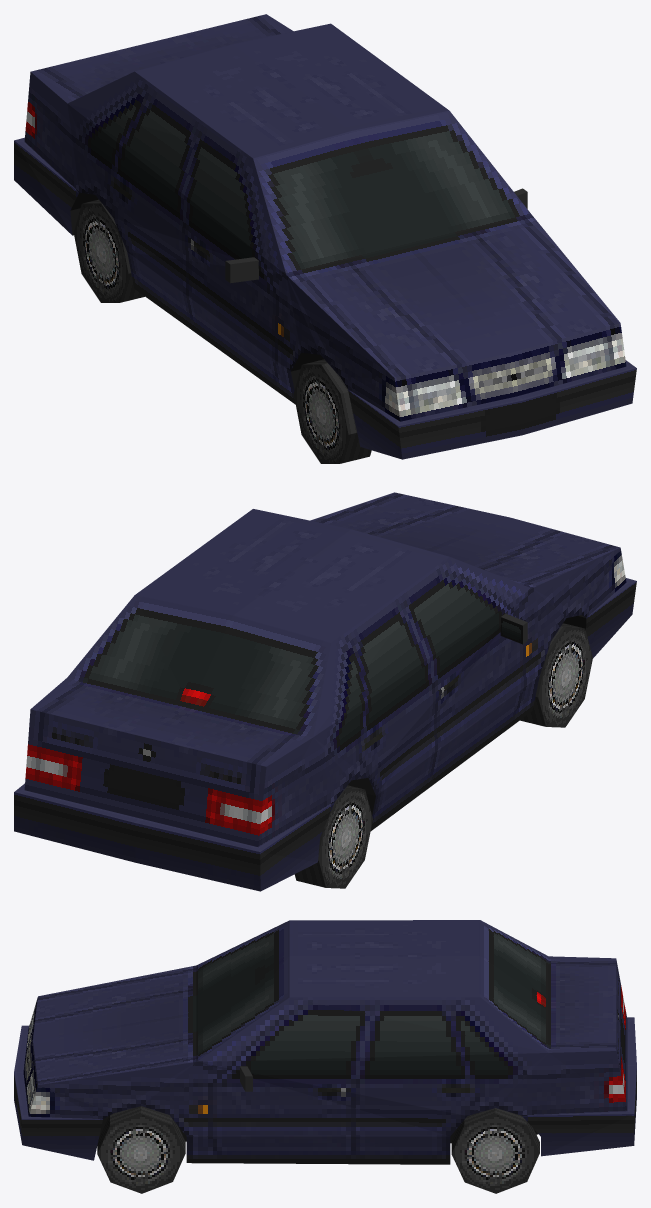
Rendered from Car2.glb.
3 renders of one model, top to bottom at view 1: azimuth 30°, elevation 25°; view 2: azimuth 150°, elevation 25°; view 3: azimuth 270°, elevation 25°, orthographic. The views are drawn at different scales.
Visible parts, largest first — view 1: Car2, Wheel.002, Wheel.004; view 2: Car2, Wheel.002, Wheel.004; view 3: Car2, Wheel.001, Wheel.003.
Part boxes in pixels (x1,y1,x2,y2): Car2: (14, 14, 636, 459); Wheel.002: (293, 359, 371, 463); Wheel.004: (73, 199, 144, 302); Car2: (14, 492, 636, 891); Wheel.002: (520, 623, 592, 727); Wheel.004: (294, 785, 372, 888); Car2: (14, 920, 636, 1164); Wheel.001: (97, 1106, 185, 1193); Wheel.003: (451, 1108, 539, 1193).
Bounding box in the file's own units: 2.9 × 2.2 × 6.53.
1 material, 1 textured.
